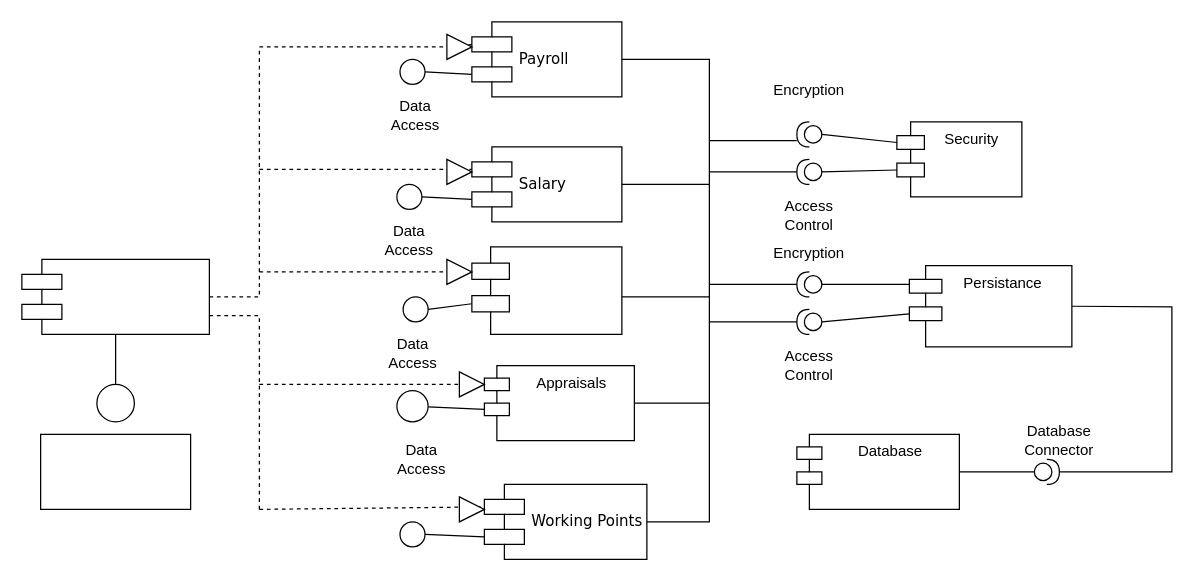
Some shapes in this 1195 by 581 pixel diagram are drawn without their labels. Each missing label, with the centre of its shape:
Employee: the point at 546,290
Payroll Management System: the point at 115,296
System Admin of PMS: the point at 115,471
